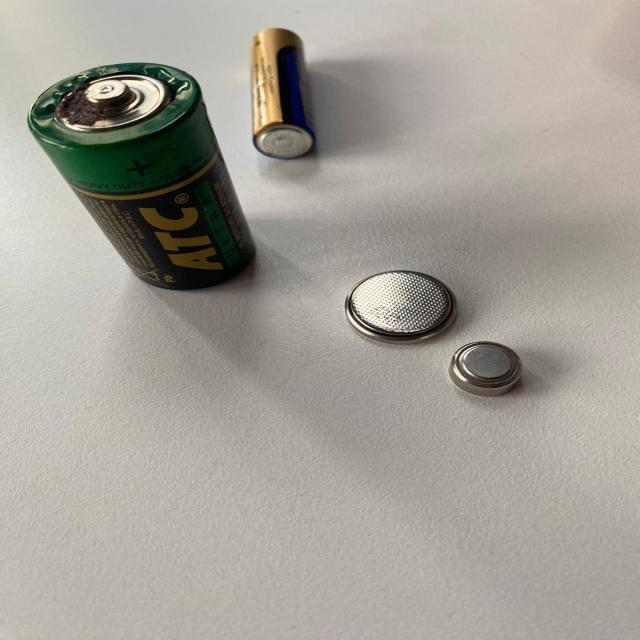AA: (250, 27, 316, 159)
COIN: (323, 252, 472, 344)
